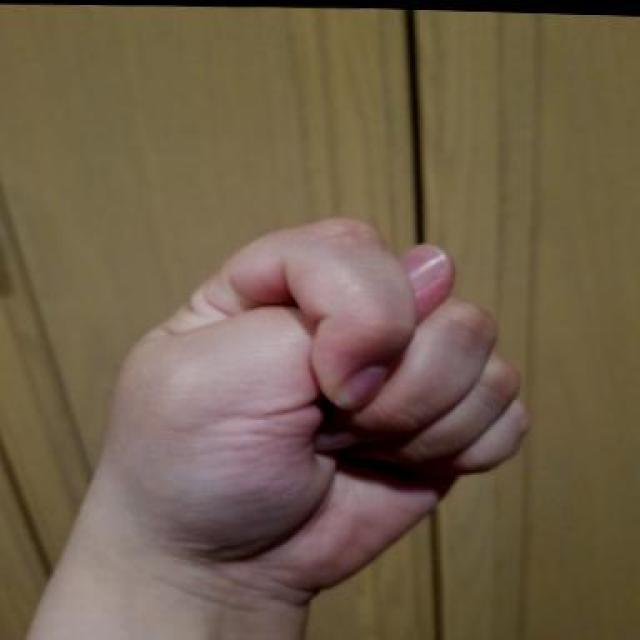T: (52, 216, 554, 640)
